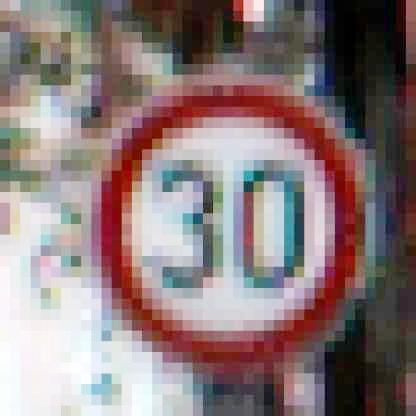Speed Limit -30-: (94, 72, 380, 379)
